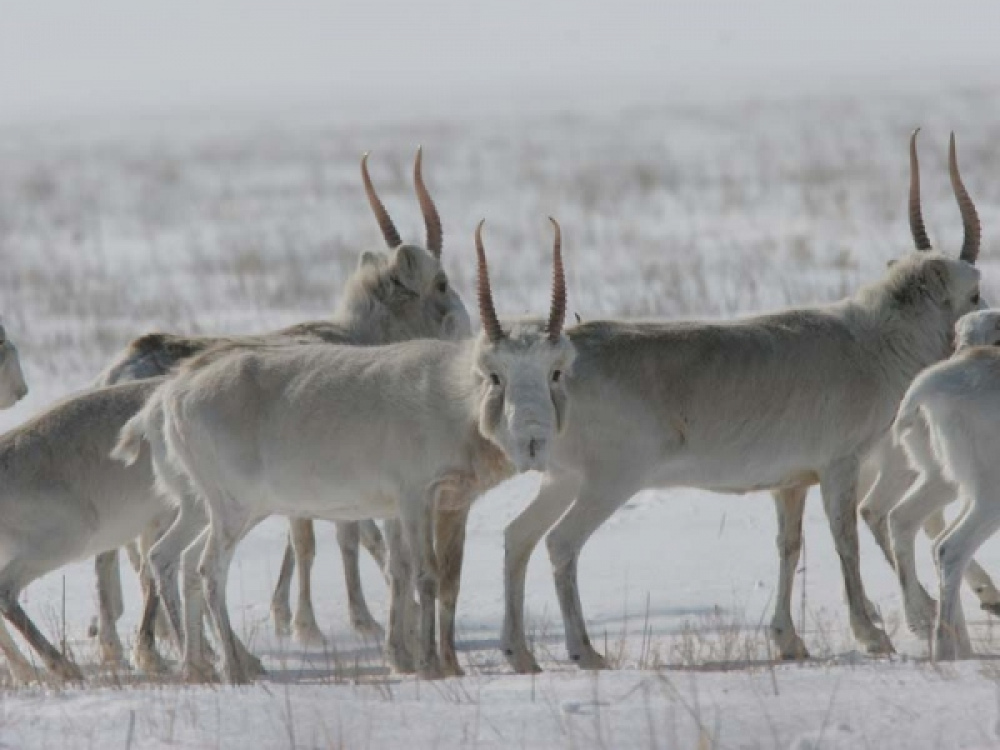saiga: (109, 214, 579, 681)
